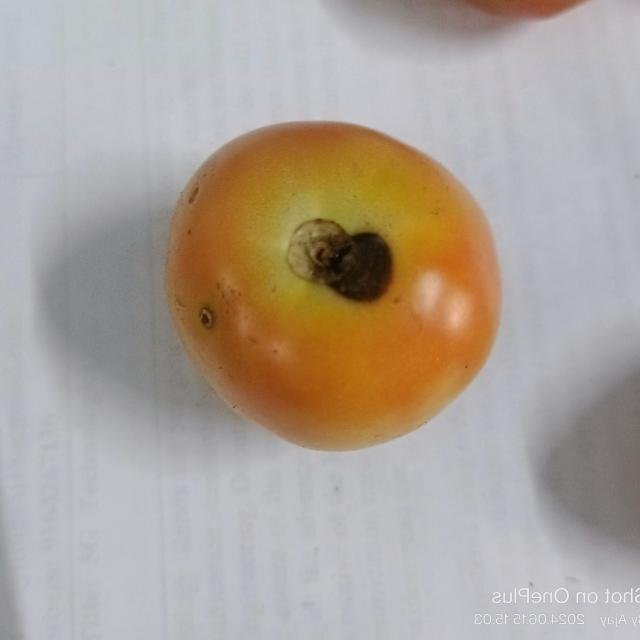fruitworm_bore: (278, 213, 404, 302)
